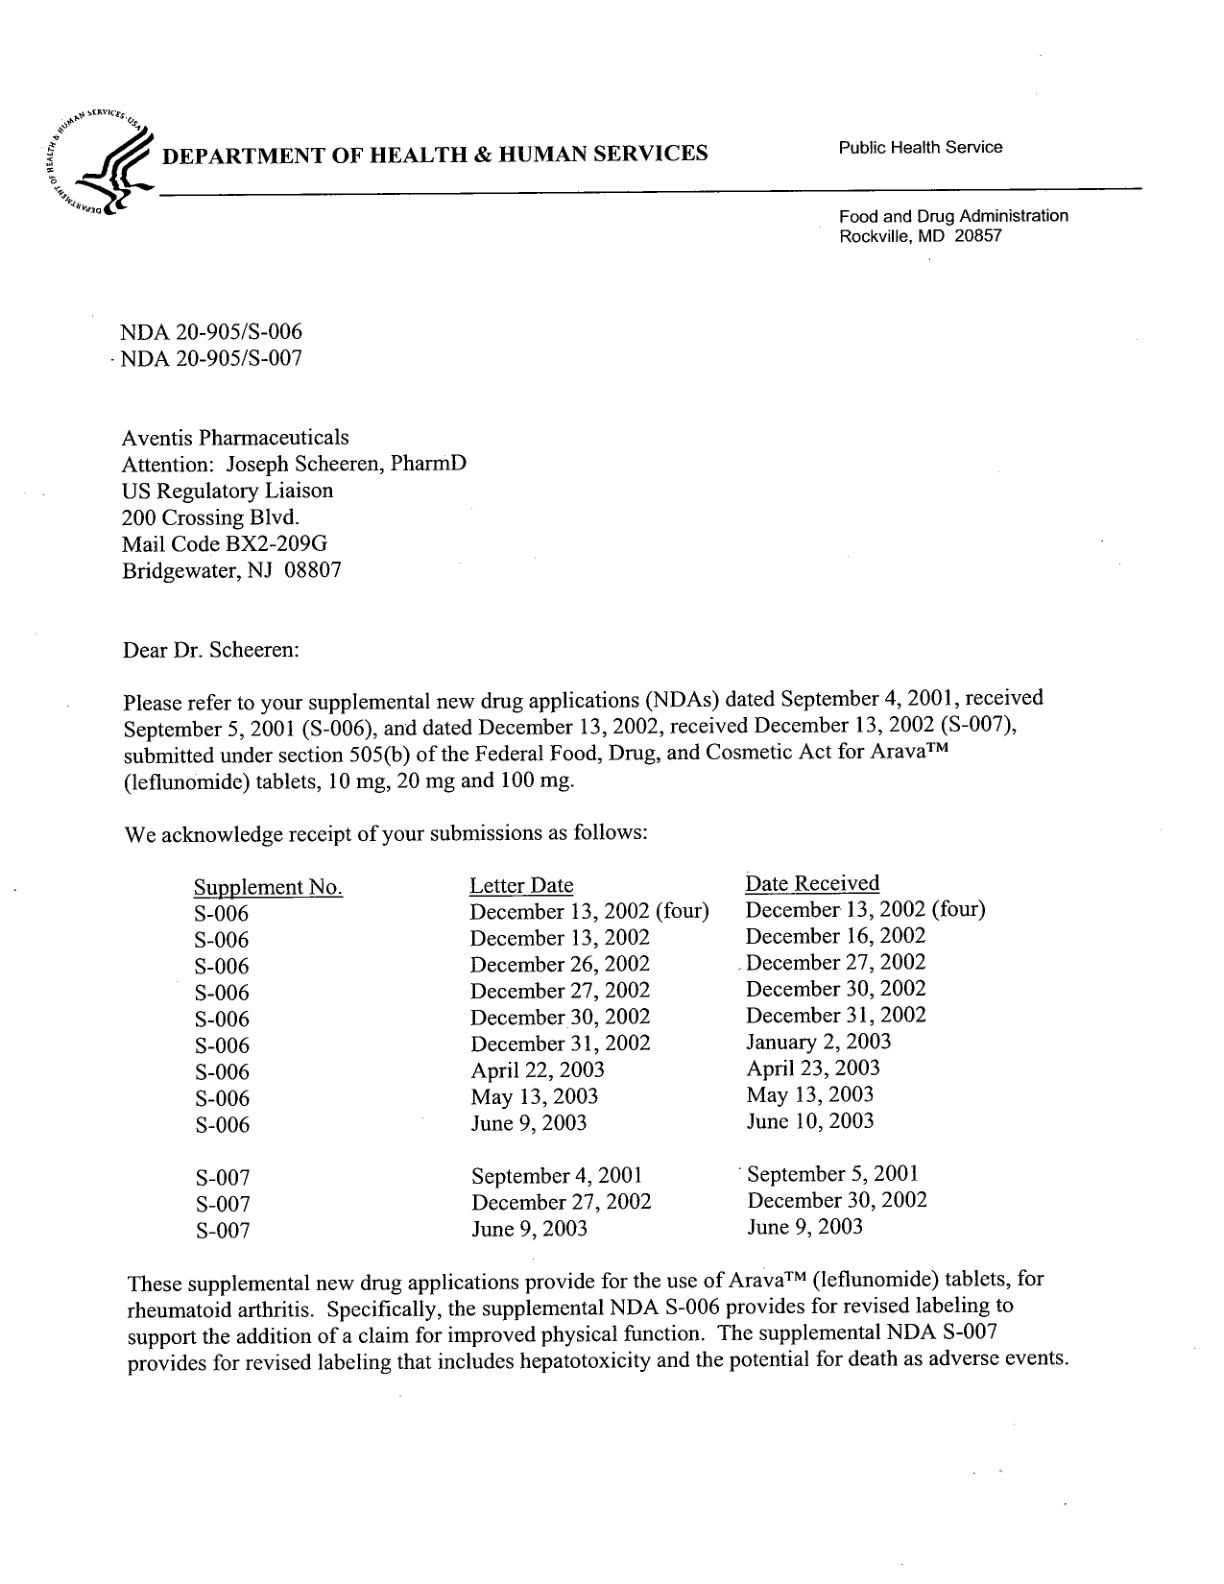nolines: (190, 873, 987, 1242)
